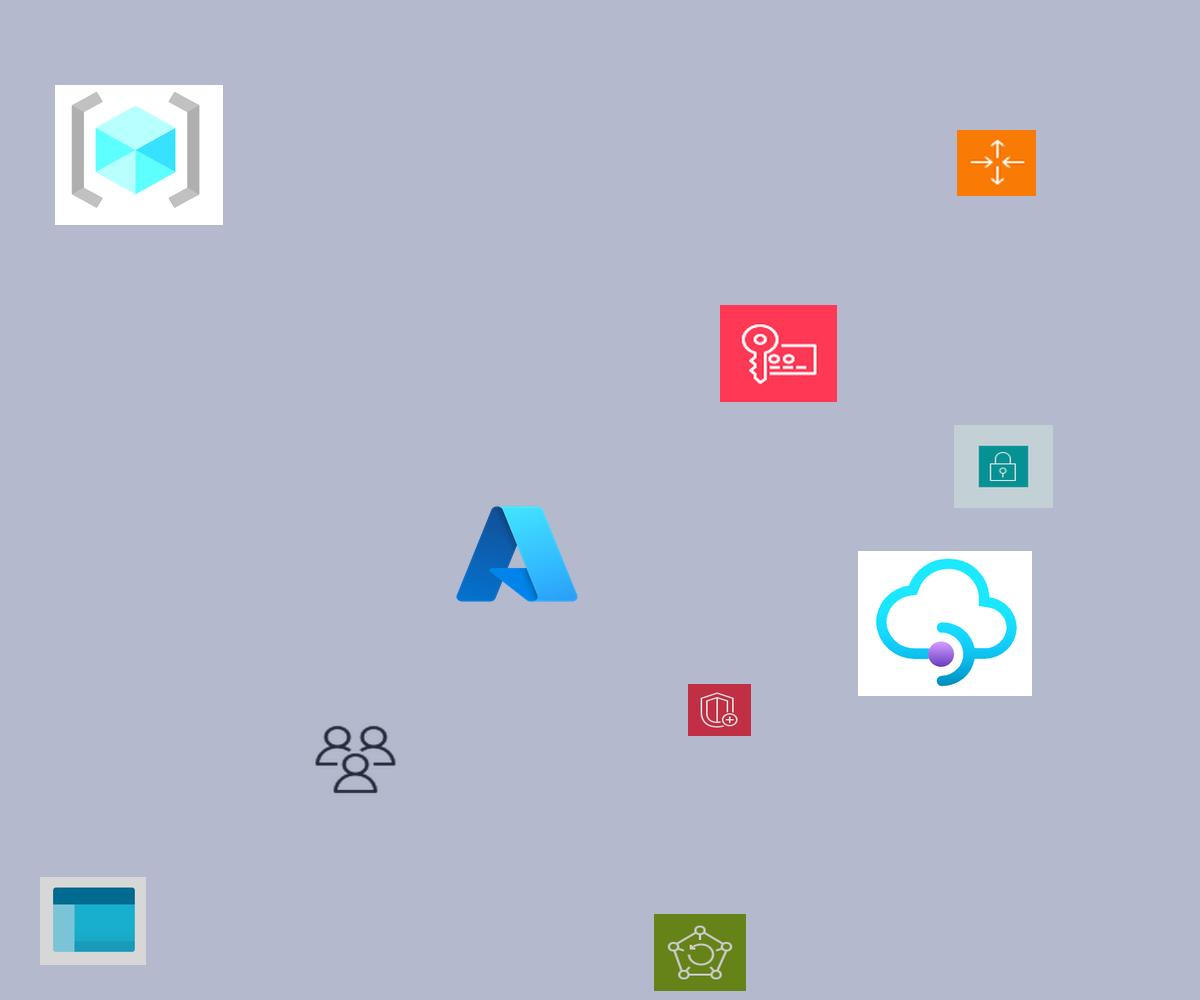AWS-Backup: (654, 914, 746, 991)
AWS-Key-Management-Service: (720, 305, 837, 402)
AWS-Private-subnet: (954, 425, 1053, 508)
AWS-Res_Users: (312, 723, 399, 796)
AWS-Scaling-group: (957, 130, 1036, 196)
AWS-Shield: (688, 684, 751, 736)
Azure_api_gateway: (858, 551, 1032, 696)
Azure_management-portal: (40, 877, 146, 965)
Azure_resource_group: (55, 85, 223, 225)
Azure_services: (451, 499, 583, 609)
